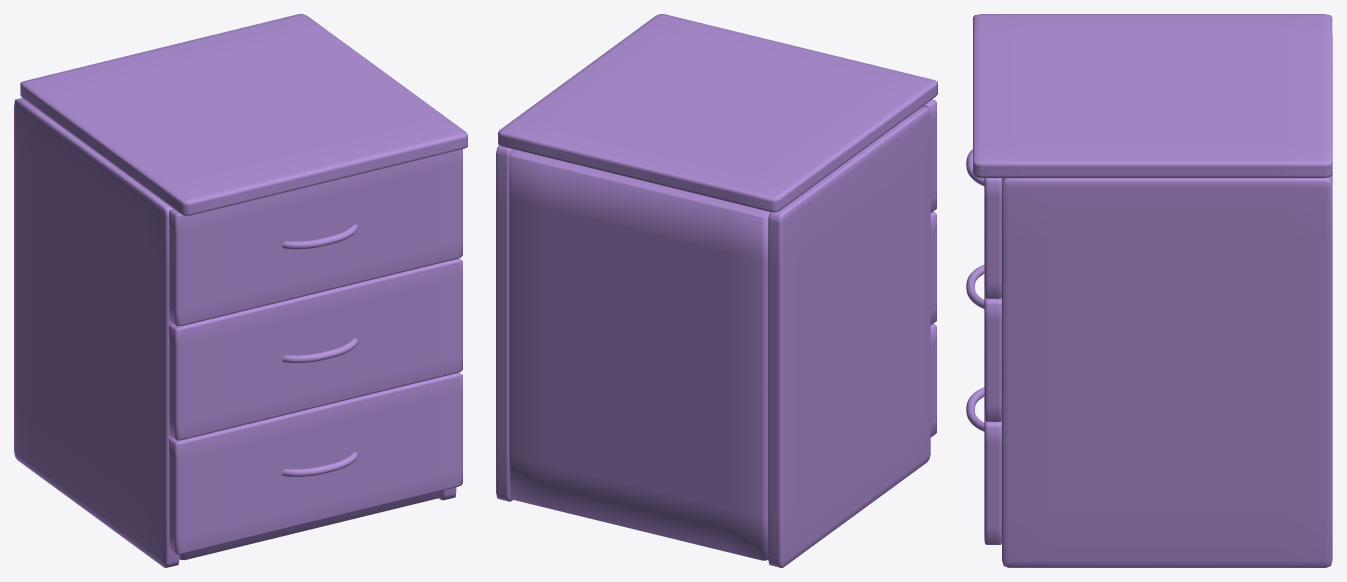
The model's file is NEWDRAWERS.fbx.
3 renders of one model, left to right at view 1: azimuth 30°, elevation 25°; view 2: azimuth 150°, elevation 25°; view 3: azimuth 270°, elevation 25°, orthographic. The views are drawn at different scales.
Parts seen in each view (by area): view 1: Box029.001, Box031, Box032, Box033, Box027, Box034, Line004, Line005, Line006; view 2: Box034, Box029.001, Box031, Box029, Box027, Box032, Box033; view 3: Box029, Box031, Box032, Box033, Box027.
Part boxes in pixels (box(x1,y1,x2,y2)): Box029.001: box(14, 98, 179, 567); Box031: box(20, 14, 467, 215); Box032: box(169, 258, 462, 440); Box033: box(169, 372, 462, 554); Box027: box(169, 149, 462, 326); Box034: box(179, 491, 442, 560); Line004: box(282, 224, 357, 249); Line005: box(282, 338, 357, 363); Line006: box(282, 452, 357, 476); Box034: box(509, 150, 770, 560); Box029.001: box(768, 106, 930, 567); Box031: box(498, 14, 937, 212); Box029: box(496, 145, 515, 501); Box027: box(923, 99, 936, 212); Box032: box(930, 211, 936, 325); Box033: box(930, 324, 936, 437); Box029: box(1002, 176, 1332, 567); Box031: box(973, 14, 1332, 178); Box032: box(984, 295, 1001, 421); Box033: box(984, 418, 1001, 544); Box027: box(984, 178, 1002, 298).
Size of the model in its own units: 15.97 by 19.7 by 16.13.
